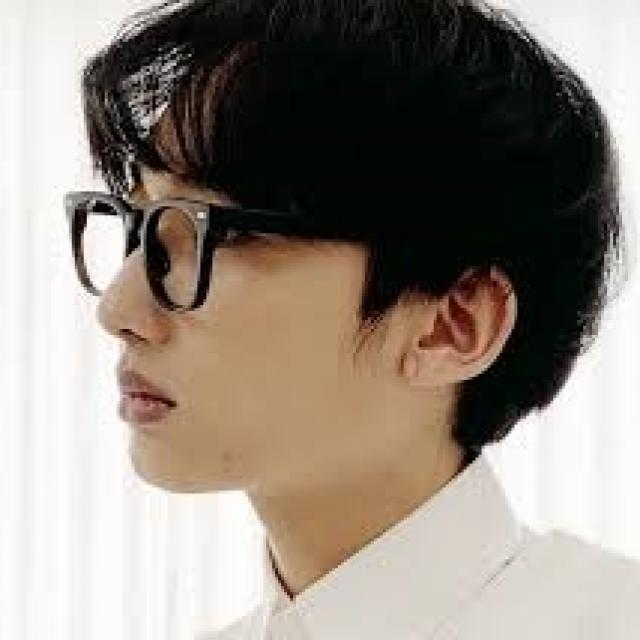Glasses: (48, 179, 401, 326)
